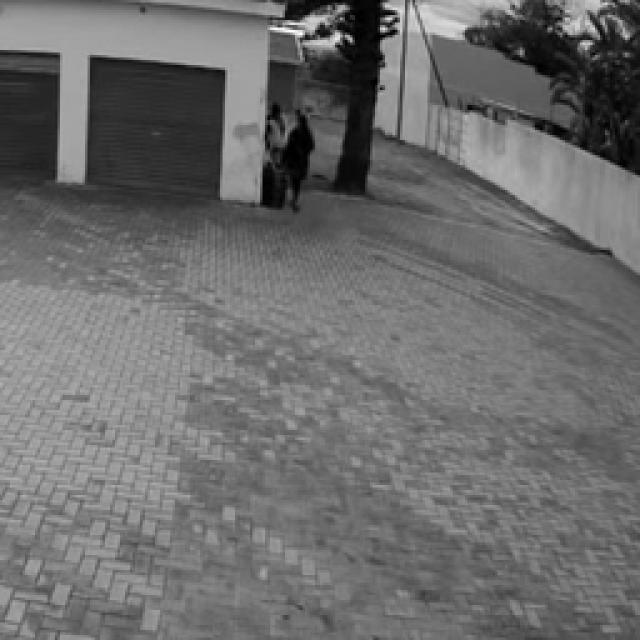Invader: (277, 108, 315, 212)
